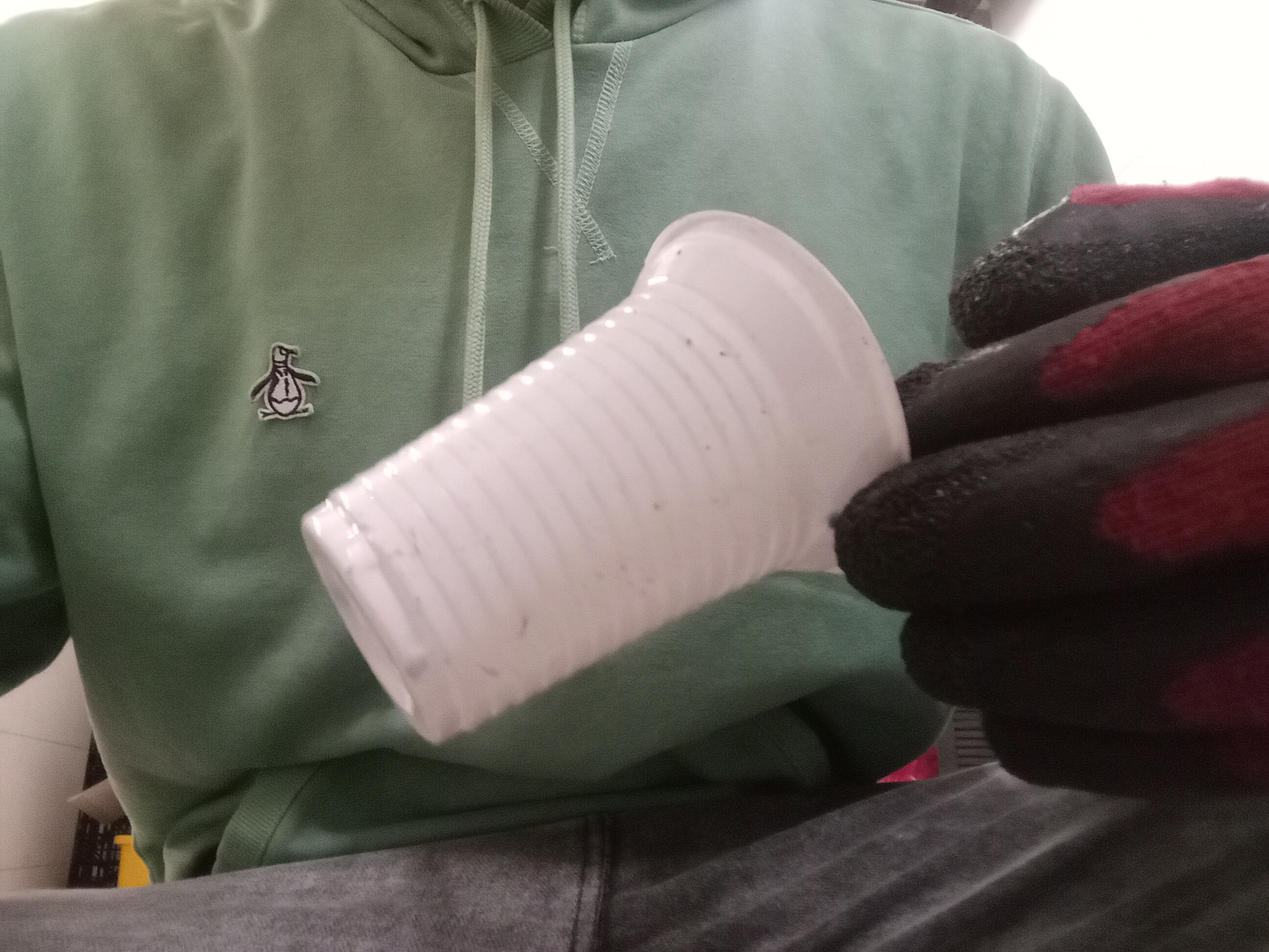Plastico: (300, 210, 913, 746)
